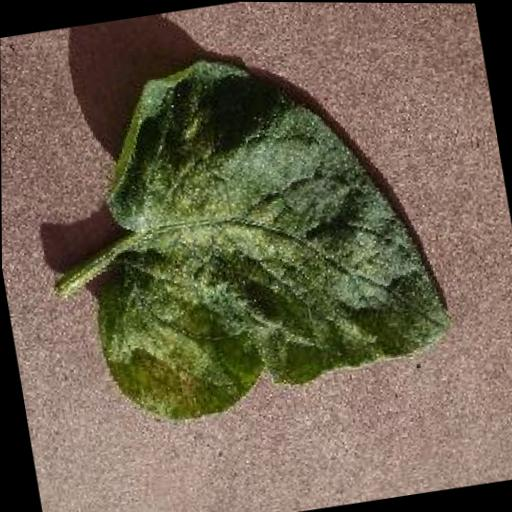Spider Mites: (53, 28, 461, 432)
